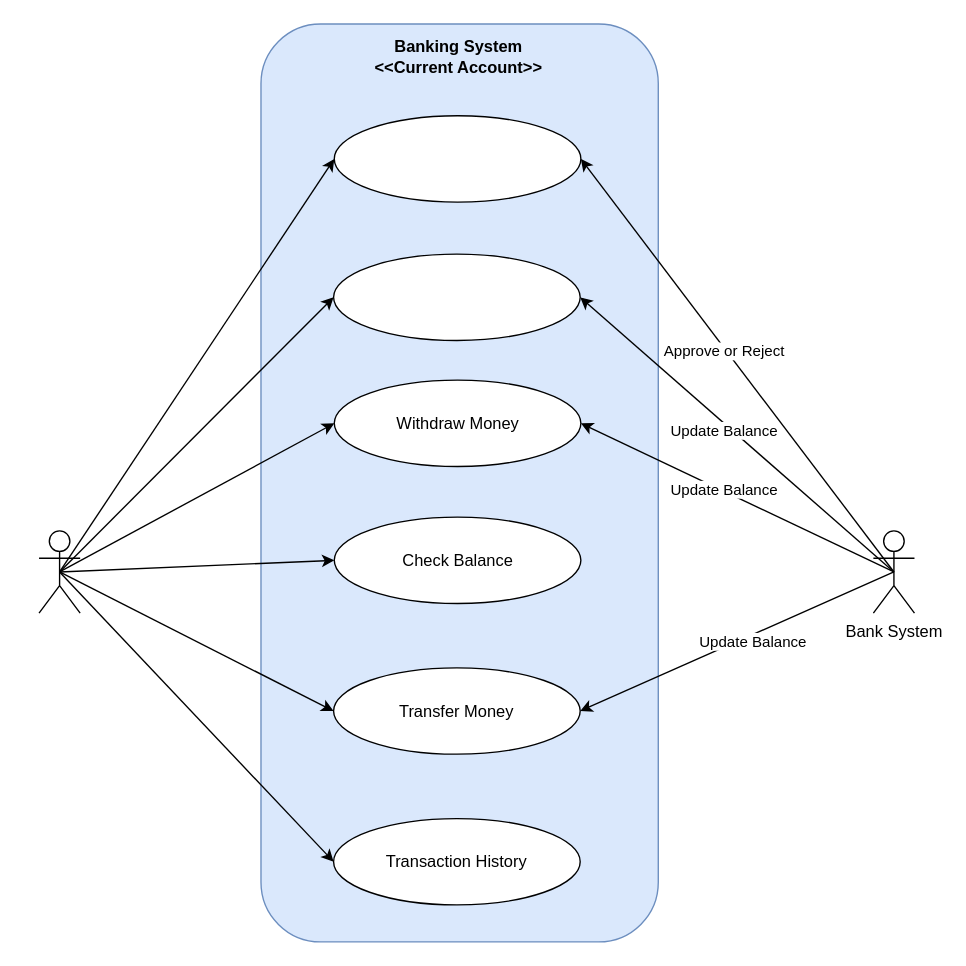
Some shapes in this 966 by 966 pixel diagram are drawn without their labels. Here are the shapes that lost their labels. From the top down, the centre of each, then its label:
At pixel 457 158: "Create Current Account".
At pixel 456 296: "Deposit Money".
At pixel 59 571: "Customer".
